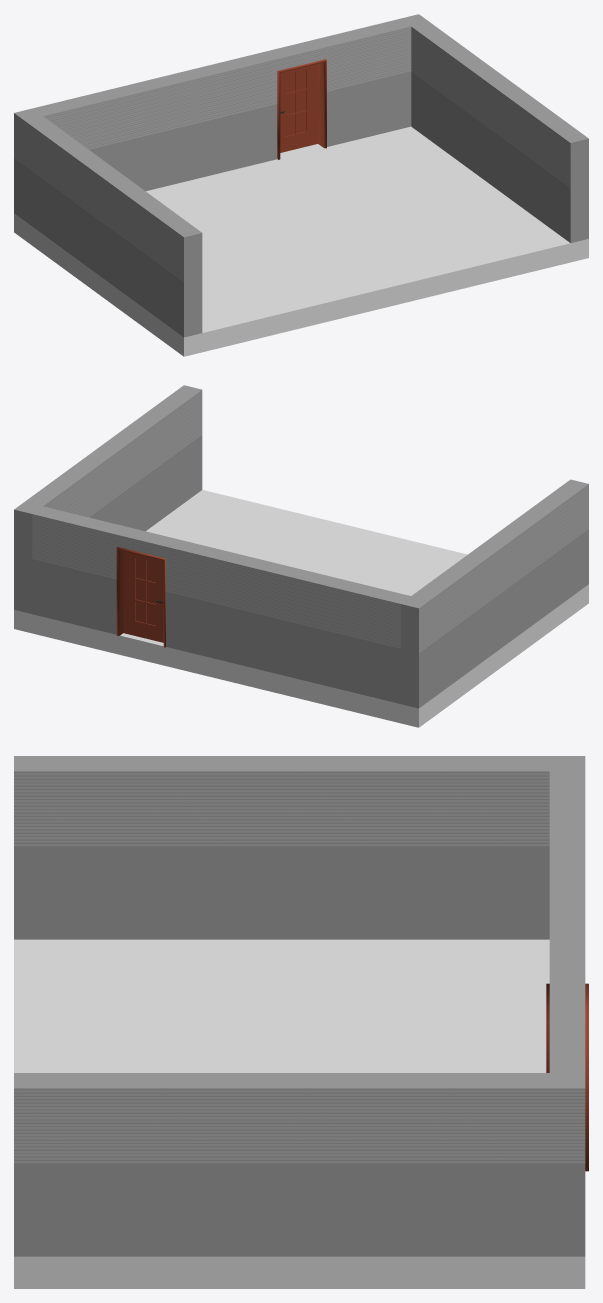
Rendered from Küche.fbx_W_nde_001.fbx.
The picture shows the model from 3 angles, top to bottom: view 1: azimuth 30°, elevation 25°; view 2: azimuth 150°, elevation 25°; view 3: azimuth 270°, elevation 25°; orthographic projection. The views are drawn at different scales.
Visible parts, largest first — view 1: Cube.002, Wand normal.019, Wand normal.021, Wand normal.020, Wand normal.023, Wand normal.001, Wand normal.017, Wand normal.016, Wand normal.026, Wand normal.024, Wand normal.025, Wand normal.018 (+4 smaller); view 2: Cube.002, Wand normal.021, Wand normal.020, Wand normal.022, Wand normal.019, Wand normal.026, Wand normal.001, Wand normal.023, Wand normal.025, Wand normal.024, Wand normal.016, Wand Durchgang.001 (+4 smaller); view 3: Cube.002, Wand normal.017, Wand normal.018, Wand normal.025, Wand normal.001, Wand normal.016, Wand normal.023, Wand normal.024, Wand normal.026, Wand Durchgang.001, Wand normal.022, Wand normal.019 (+3 smaller).
Boxes of the visible parts, <box> form: Cube.002: <box>14,126,588,356</box>; Wand normal.019: <box>327,18,411,144</box>; Wand normal.021: <box>180,54,263,180</box>; Wand normal.020: <box>106,72,190,191</box>; Wand normal.023: <box>141,202,202,337</box>; Wand normal.001: <box>528,107,588,243</box>; Wand normal.017: <box>443,45,503,180</box>; Wand normal.016: <box>485,76,545,211</box>; Wand normal.026: <box>14,108,74,243</box>; Wand normal.024: <box>99,170,159,306</box>; Wand normal.025: <box>56,139,116,274</box>; Wand normal.018: <box>401,14,460,149</box>; Cube.002: <box>14,490,588,727</box>; Wand normal.021: <box>179,542,263,667</box>; Wand normal.020: <box>253,560,336,685</box>; Wand normal.022: <box>327,578,410,703</box>; Wand normal.019: <box>32,506,115,631</box>; Wand normal.026: <box>400,573,461,708</box>; Wand normal.001: <box>142,385,202,520</box>; Wand normal.023: <box>528,479,588,614</box>; Wand normal.025: <box>443,541,503,677</box>; Wand normal.024: <box>486,510,546,645</box>; Wand normal.016: <box>99,416,159,531</box>; Wand Durchgang.001: <box>106,524,189,649</box>; Cube.002: <box>14,939,585,1288</box>; Wand normal.017: <box>299,1073,442,1256</box>; Wand normal.018: <box>442,1073,585,1256</box>; Wand normal.025: <box>299,756,442,939</box>; Wand normal.001: <box>14,1073,156,1256</box>; Wand normal.016: <box>157,1073,299,1256</box>; Wand normal.023: <box>14,756,156,939</box>; Wand normal.024: <box>157,756,299,939</box>; Wand normal.026: <box>442,756,585,939</box>; Wand Durchgang.001: <box>549,952,585,1012</box>; Wand normal.022: <box>549,771,585,831</box>; Wand normal.019: <box>549,1012,585,1072</box>.
Size of the model in its own units: 1100 by 310 by 805.
